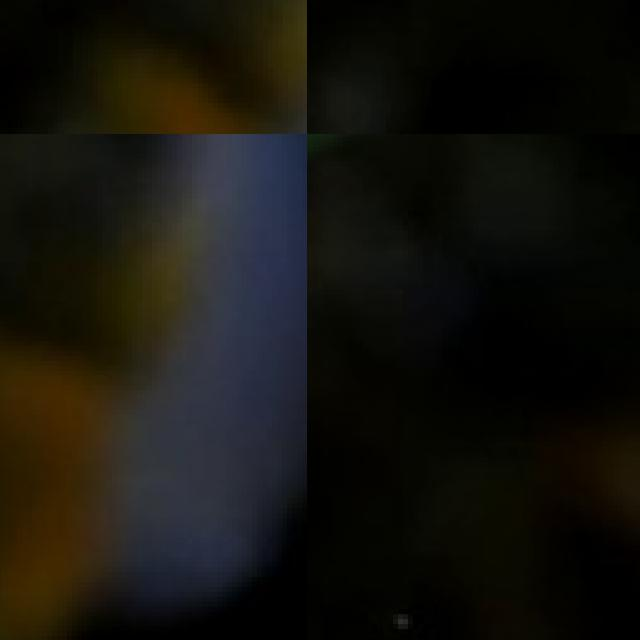fish: (0, 134, 307, 640), (0, 0, 307, 134), (341, 0, 640, 134)
